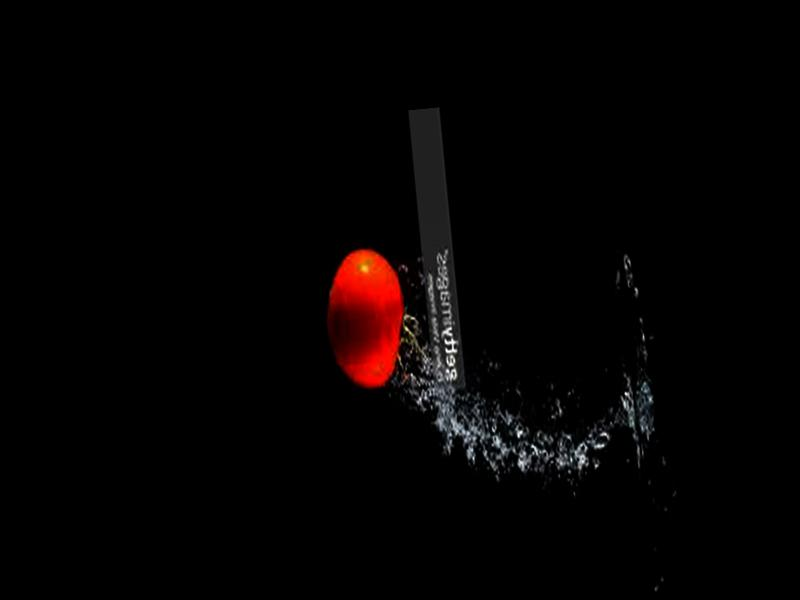Tomato: (323, 245, 411, 393)
